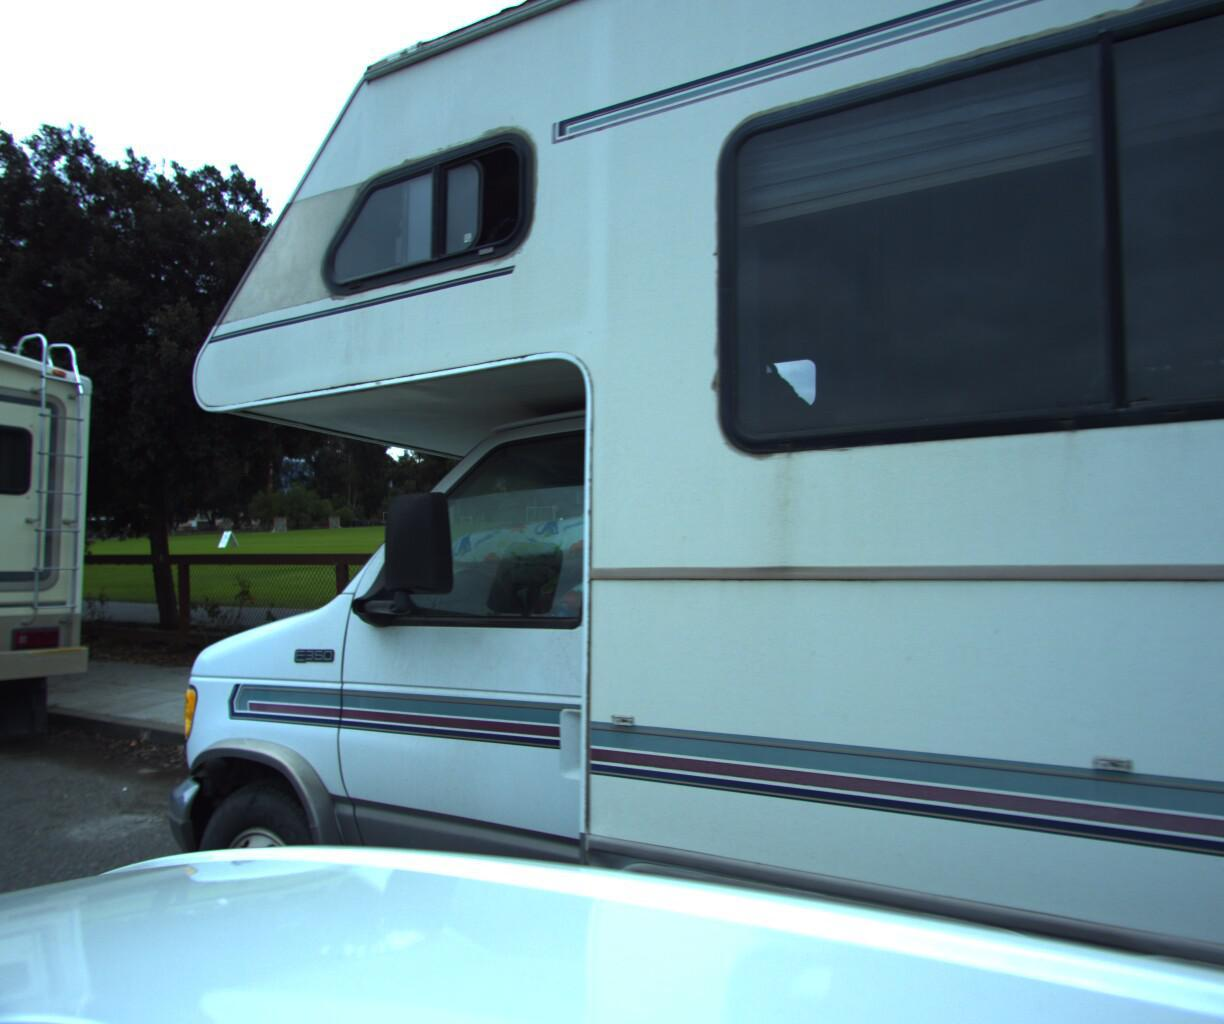other_vehicle: (0, 227, 131, 861)
